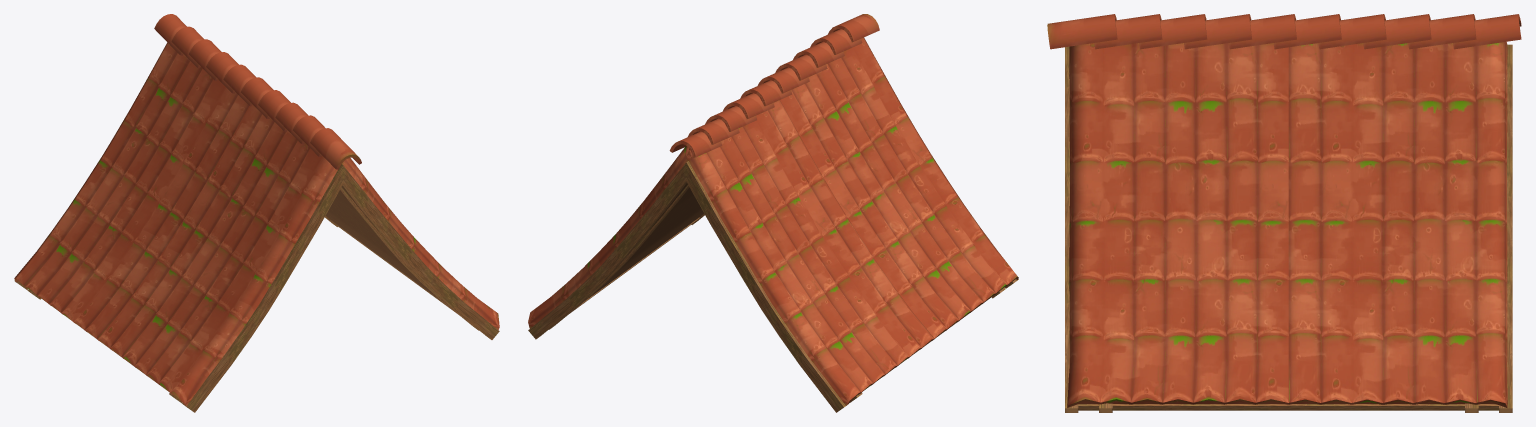
The model's file is Roof_RoundTiles_6x6.gltf.
The picture shows the model from 3 angles, left to right: view 1: azimuth 30°, elevation 25°; view 2: azimuth 150°, elevation 25°; view 3: azimuth 270°, elevation 25°; orthographic projection. The views are drawn at different scales.
Parts seen in each view (by area): view 1: Roof_RoundTiles_6x6; view 2: Roof_RoundTiles_6x6; view 3: Roof_RoundTiles_6x6.
Boxes of the visible parts, x1,y1,x2,y2 form: Roof_RoundTiles_6x6: (14, 14, 499, 412); Roof_RoundTiles_6x6: (528, 14, 1018, 412); Roof_RoundTiles_6x6: (1047, 14, 1521, 412).
Bounding box in the file's own units: 8.25 × 5.67 × 8.03.
Materials: 2 (2 with a texture image).
